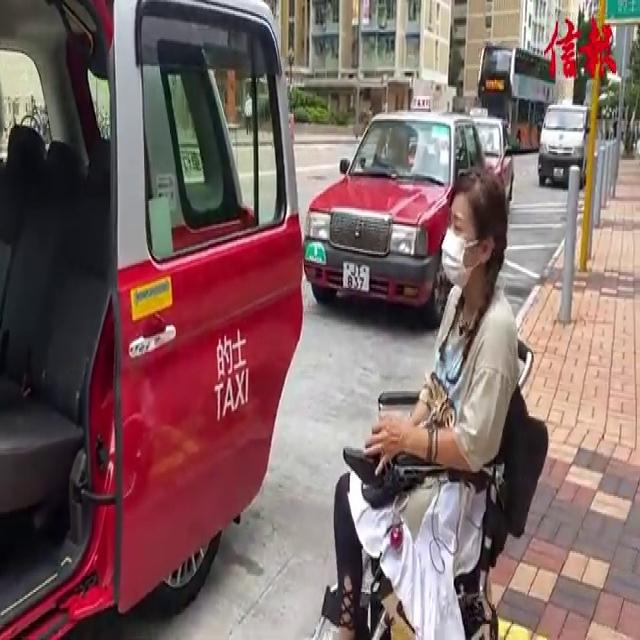wheelchairs: (307, 322, 554, 640)
